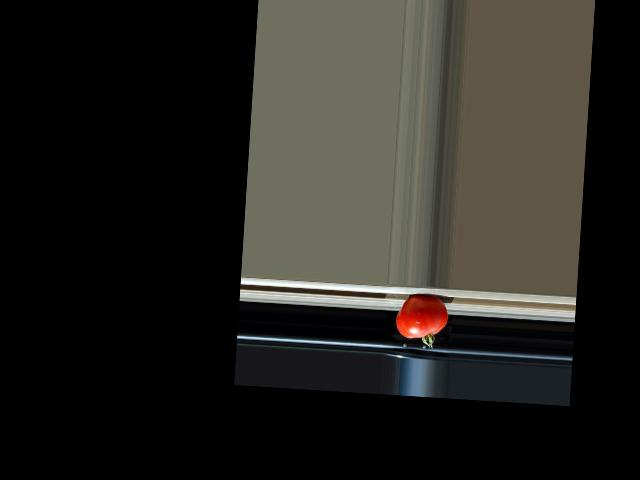tomato: (395, 294, 449, 349)
